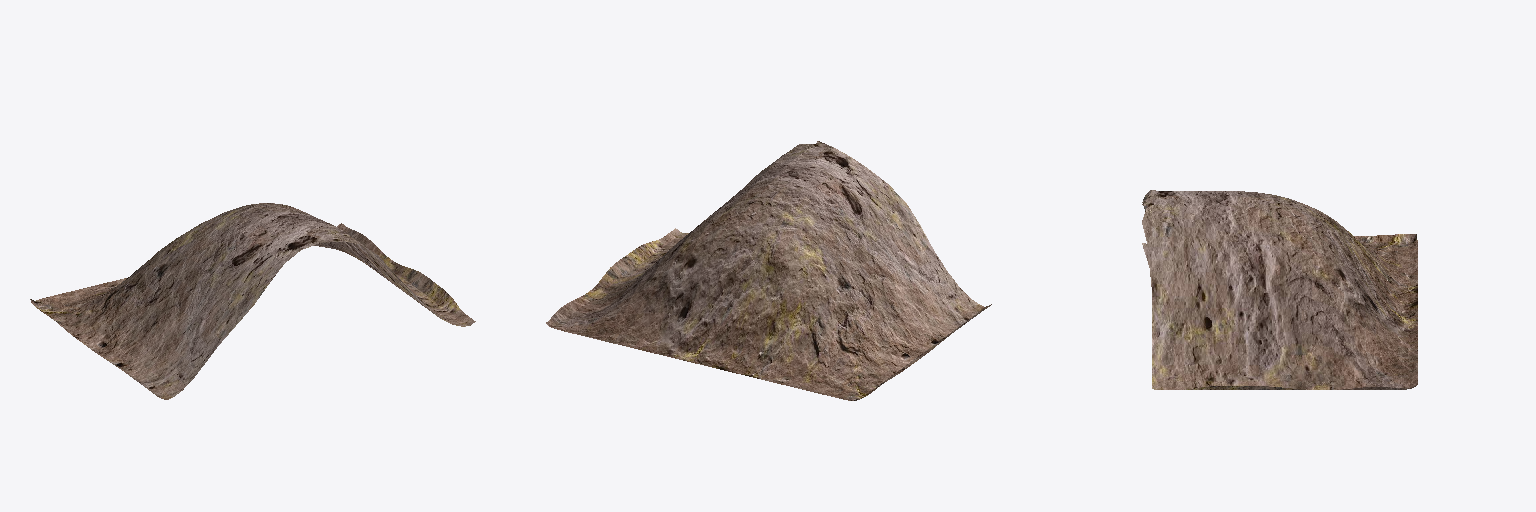
The picture shows the model from 3 angles: view 1: azimuth 30°, elevation 25°; view 2: azimuth 150°, elevation 25°; view 3: azimuth 270°, elevation 25°; orthographic projection.
Visible parts, largest first — view 1: polySurface2 pCube1; view 2: polySurface2 pCube1; view 3: polySurface2 pCube1.
Boxes of the visible parts, x1,y1,x2,y2 form: polySurface2 pCube1: [30, 203, 475, 399]; polySurface2 pCube1: [546, 141, 991, 400]; polySurface2 pCube1: [1142, 190, 1417, 389].
Size of the model in its own units: 444 by 161 by 331.
1 materials, 1 textured.